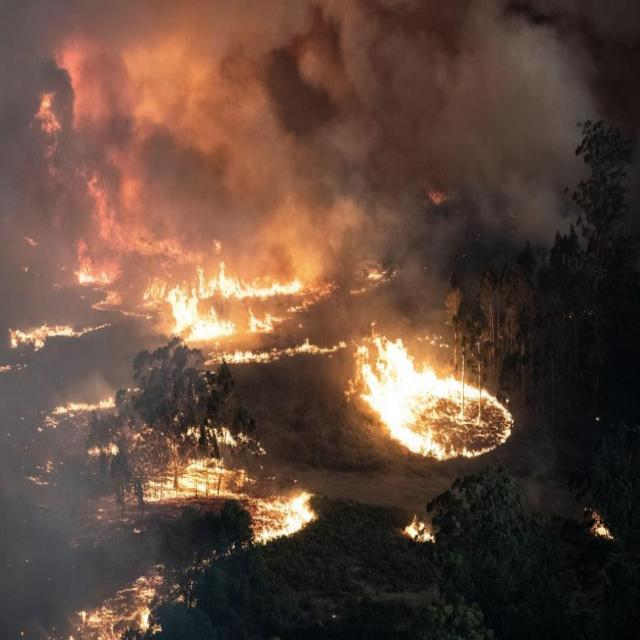Fire: (341, 319, 515, 486), (137, 418, 320, 568), (3, 258, 128, 474), (158, 256, 340, 377), (63, 554, 197, 640)
Smoke: (337, 0, 598, 252), (136, 0, 338, 250)
